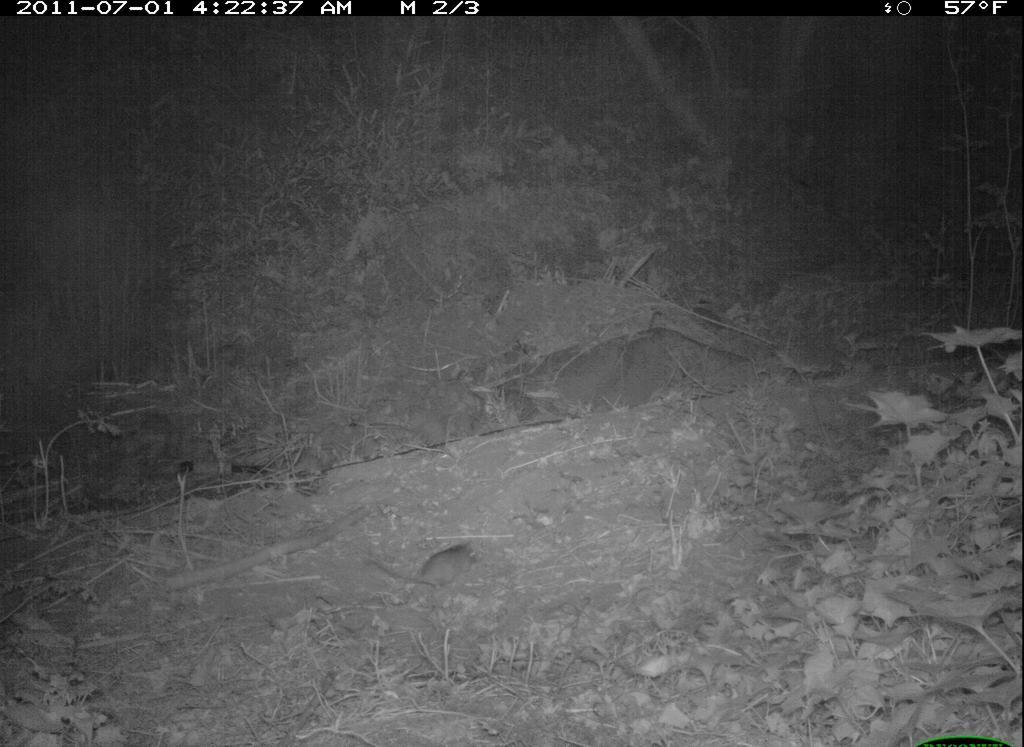rodent: (372, 545, 497, 612)
